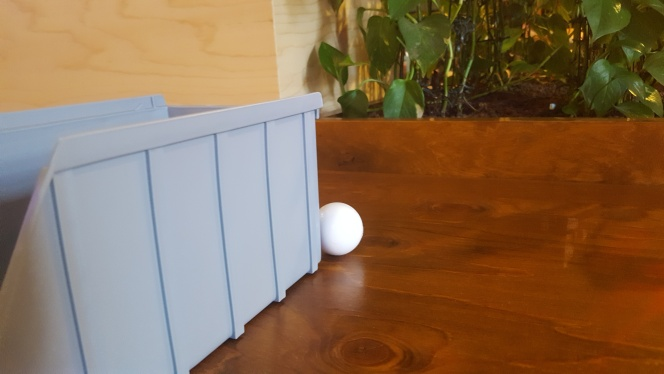egg: (319, 201, 364, 256)
tray_right: (1, 88, 322, 374)
